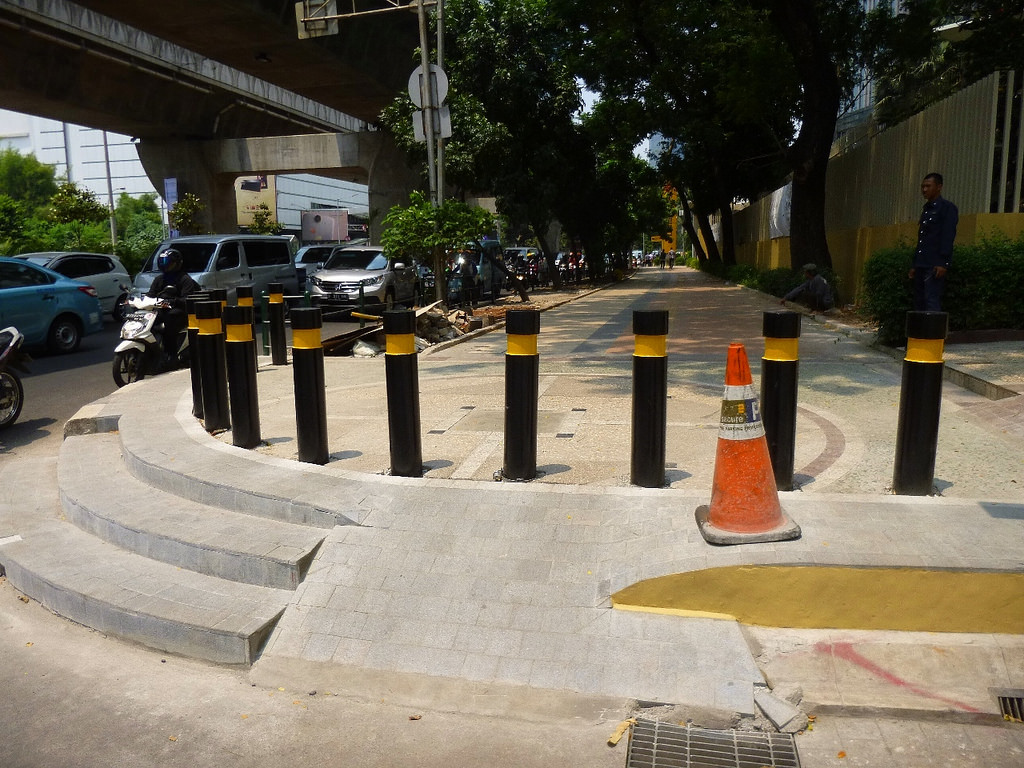bollard: (705, 342, 789, 546), (891, 311, 962, 504), (487, 311, 547, 490), (375, 307, 428, 480), (625, 307, 672, 497), (756, 311, 801, 492), (283, 309, 333, 468), (219, 313, 262, 447)
